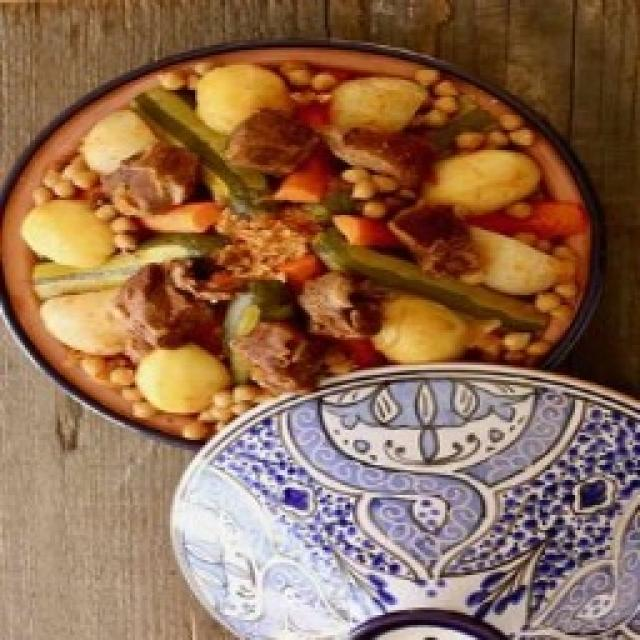Couscous: (0, 0, 640, 442)
